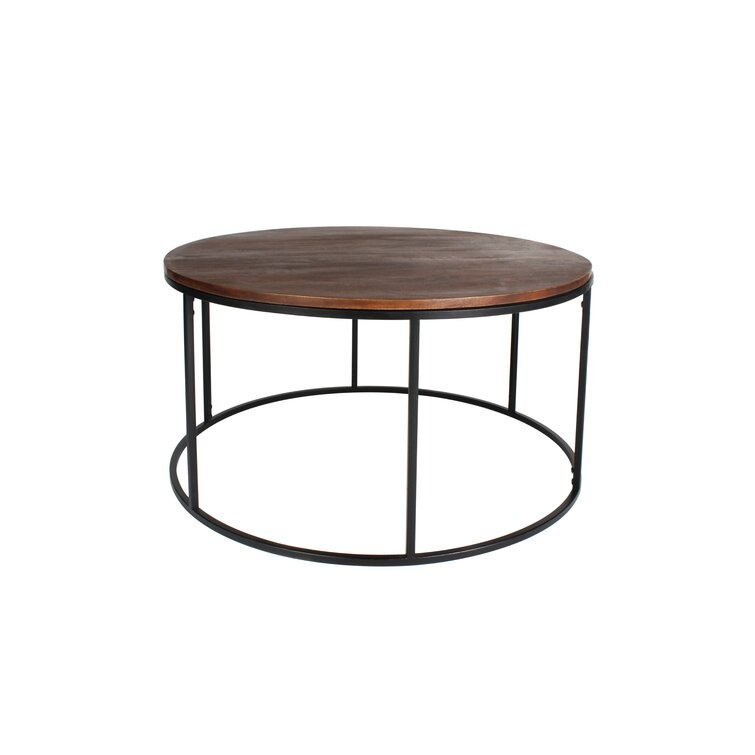obstacle: (164, 227, 592, 564)
